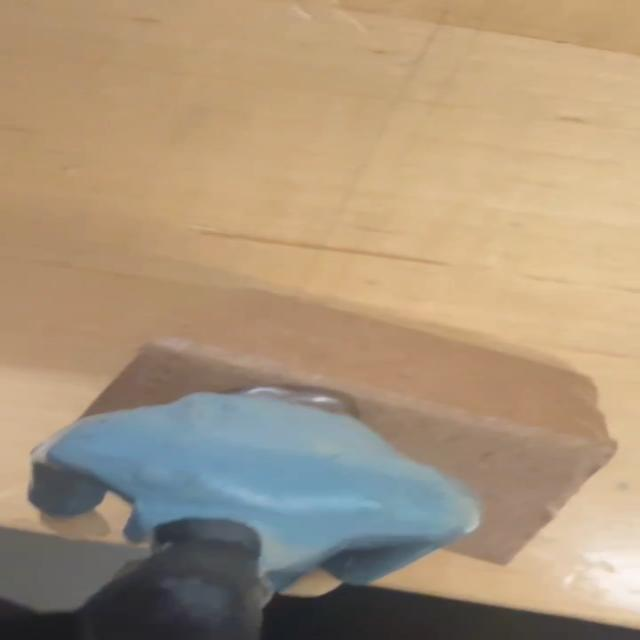Authorized: (34, 376, 489, 634)
